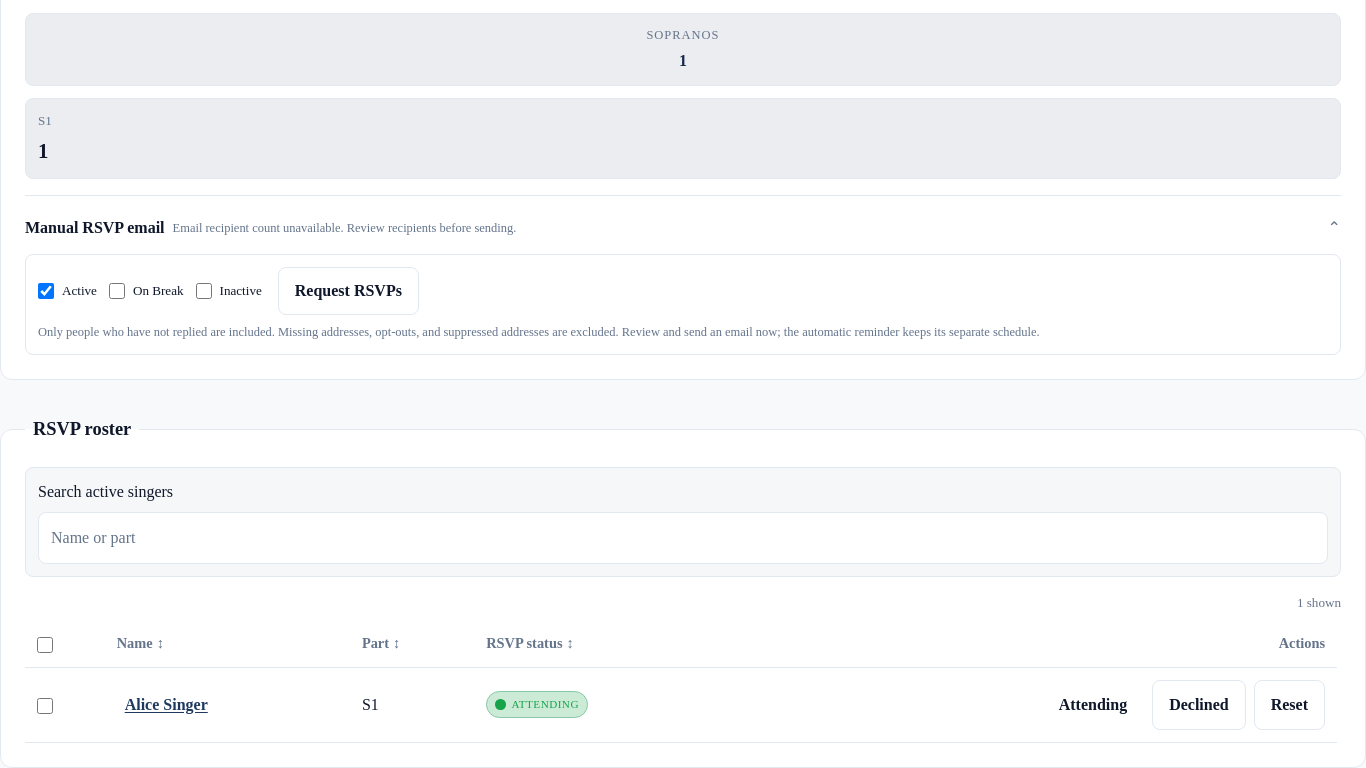
Scenario: RsvpManagerPage profile editor (issue #137) › keeps the dialog open with an error when save fails
(page scrolled)
Click the button with aria-label "Open profile for Alice Singer".
click(166, 704)  # box 117,684 -> 216,724
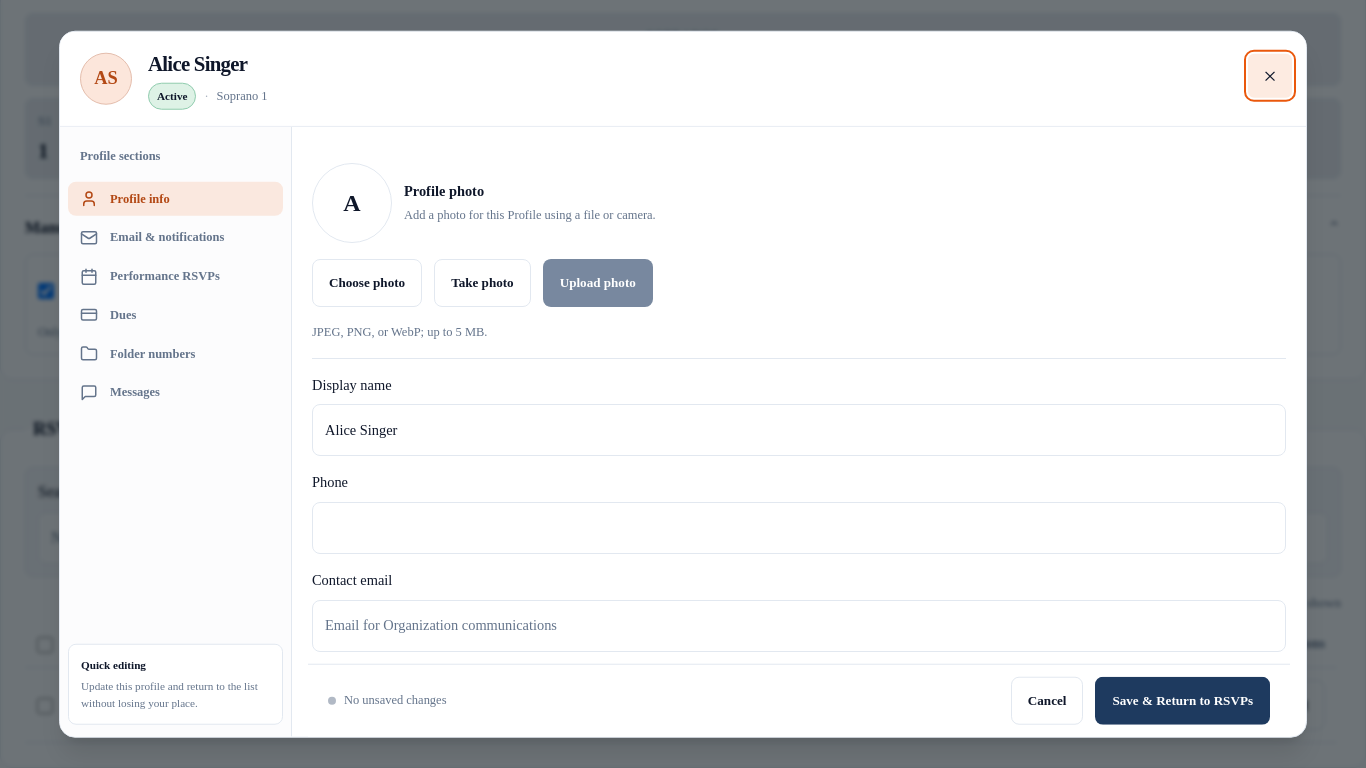
Type " X" into the field labelled "Display name".
click(799, 430); type(" X")  # box 312,404 -> 1286,456
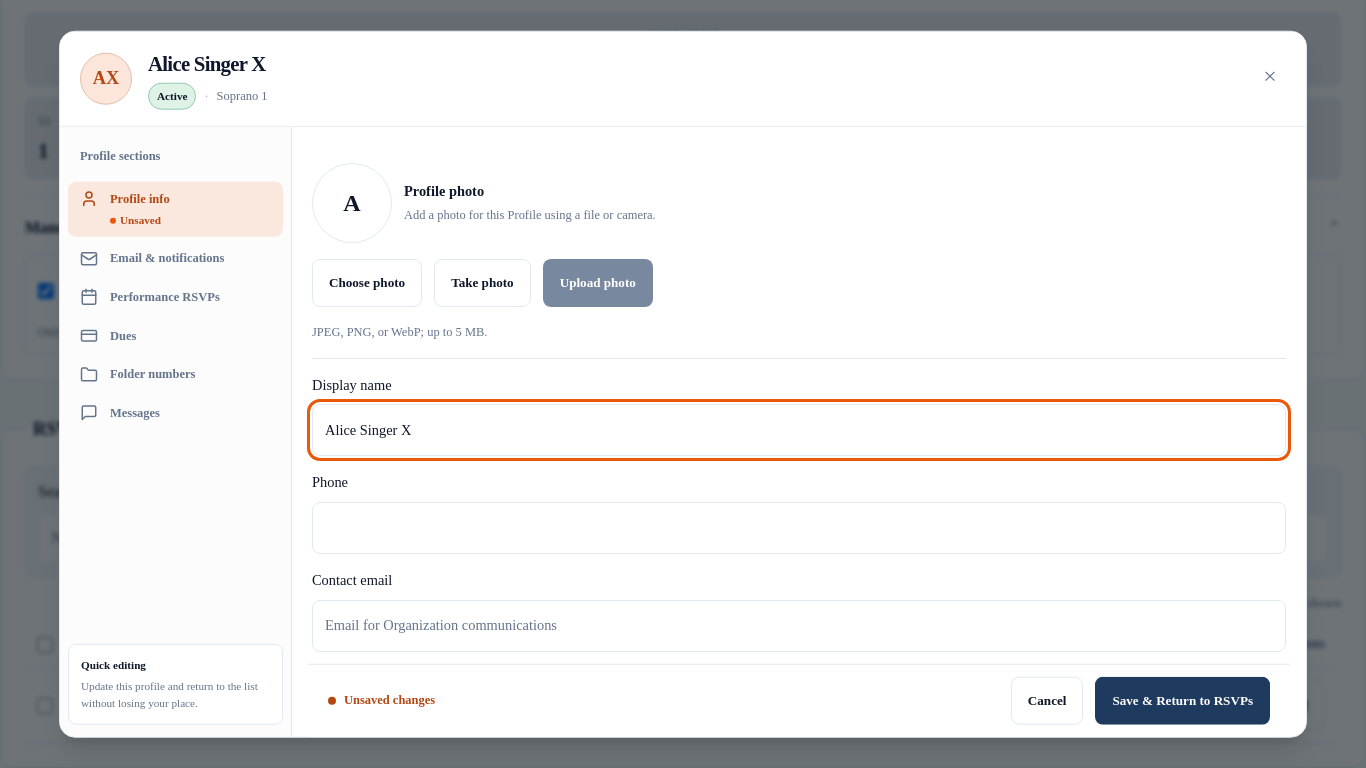
Click the button "Save & Return to RSVPs".
click(1183, 700)  # box 1095,676 -> 1270,724
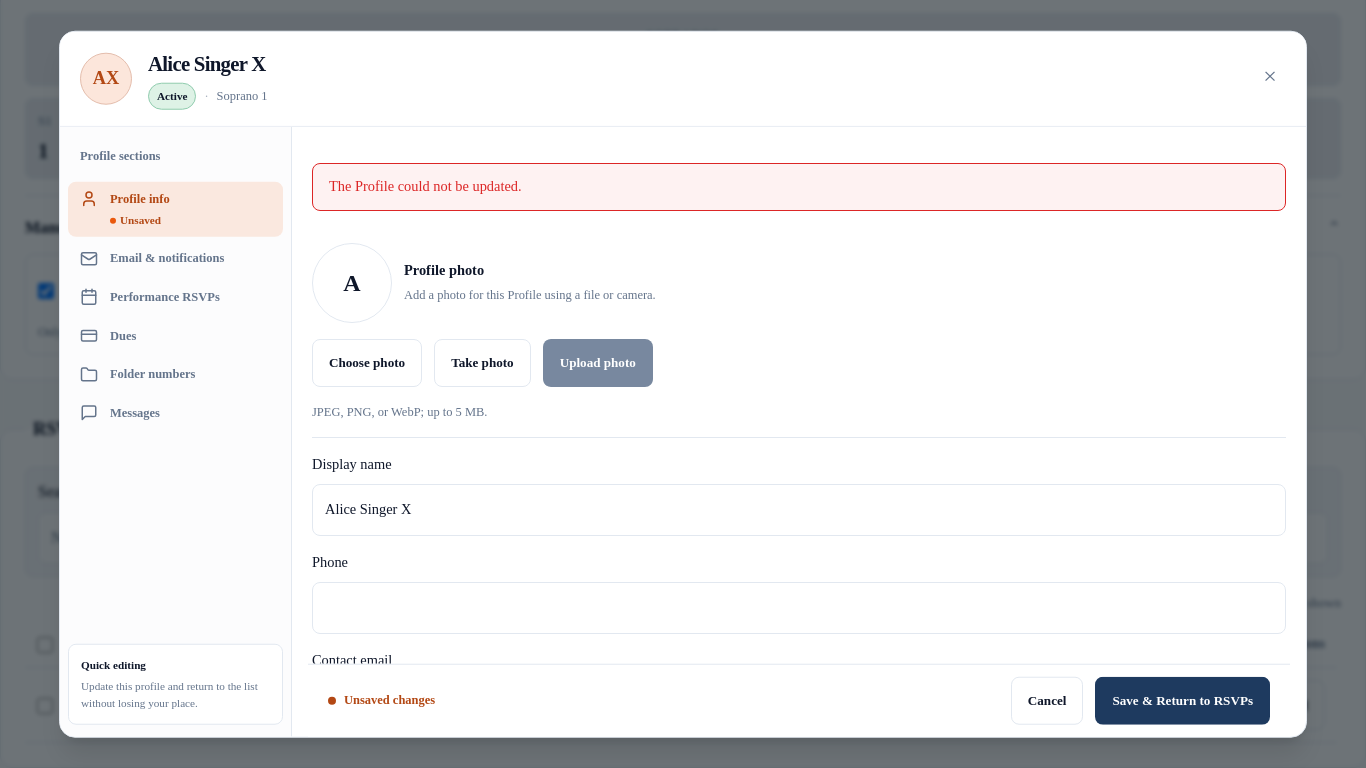
Check: the dialog named "Edit Profile" is shown
Check: the message reads "The Profile could not be updated.", box 329,178 -> 522,194
